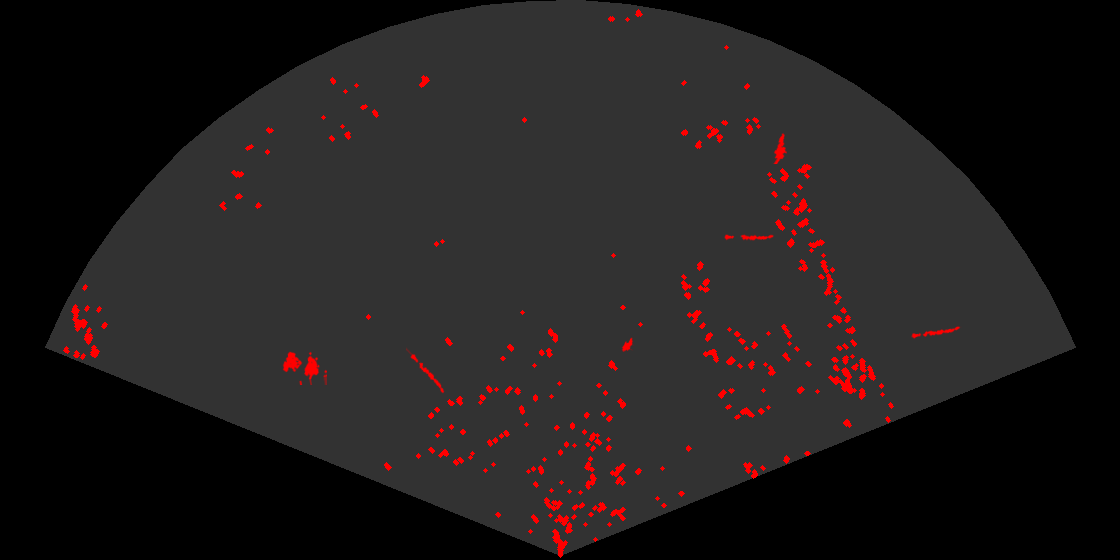AUV: (620, 336, 635, 353)
cage: (281, 350, 327, 385)
chain: (406, 347, 446, 395), (911, 324, 962, 341), (724, 233, 774, 242)
frogman: (770, 132, 788, 164)
